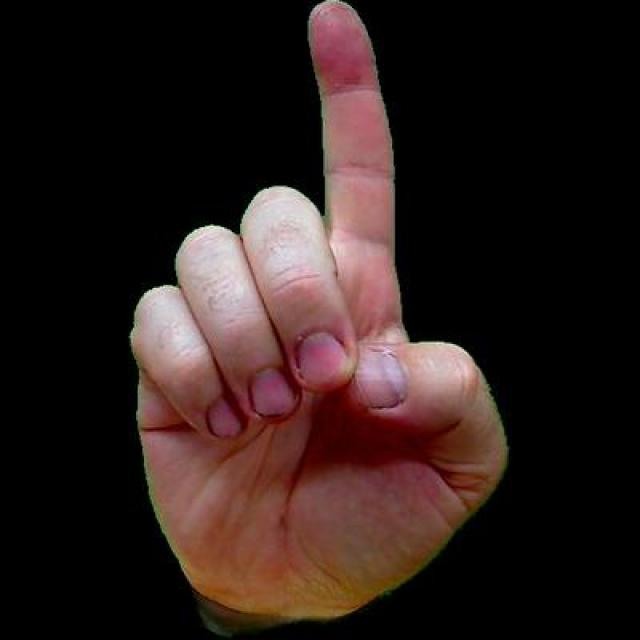d: (123, 0, 510, 637)
